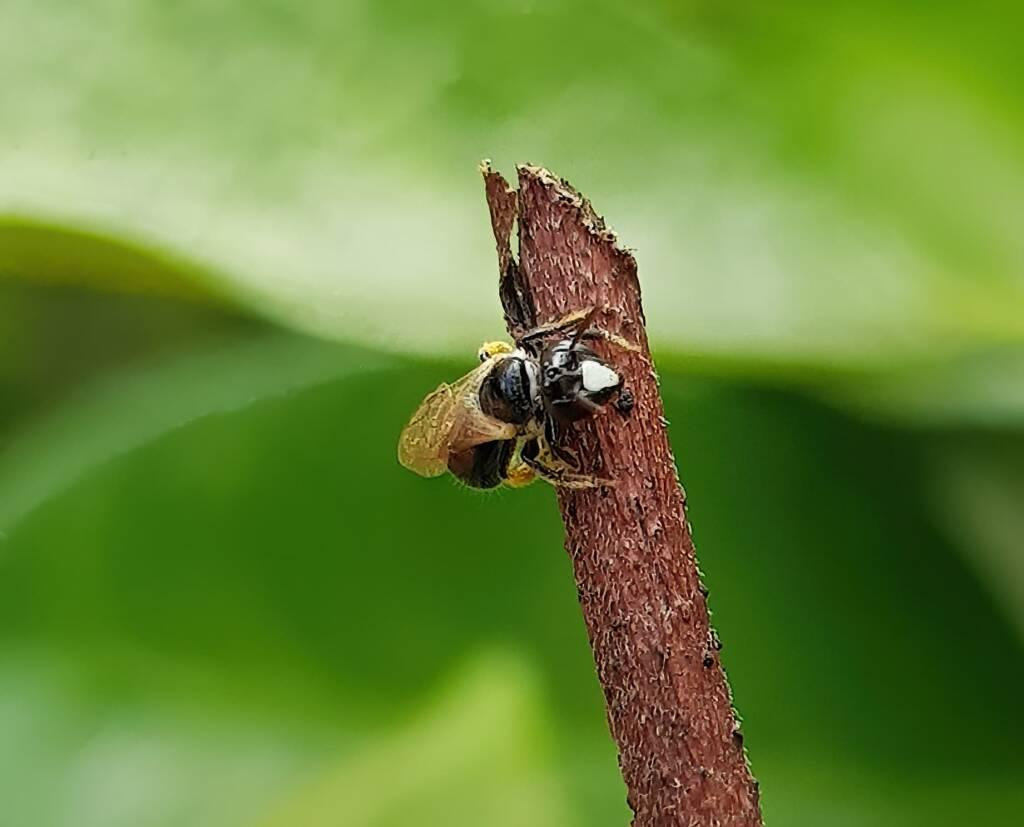Braunsapis: (399, 301, 662, 506)
